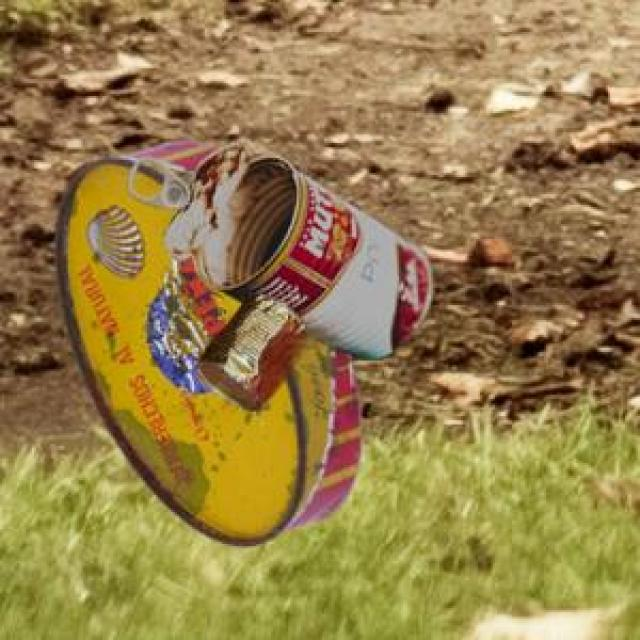logam: (52, 138, 359, 543), (125, 140, 430, 357), (193, 291, 302, 406)
